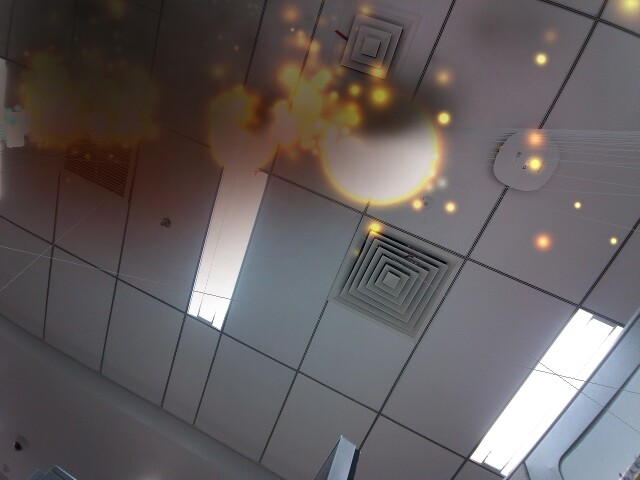fire: (328, 90, 442, 211), (206, 99, 282, 173)
